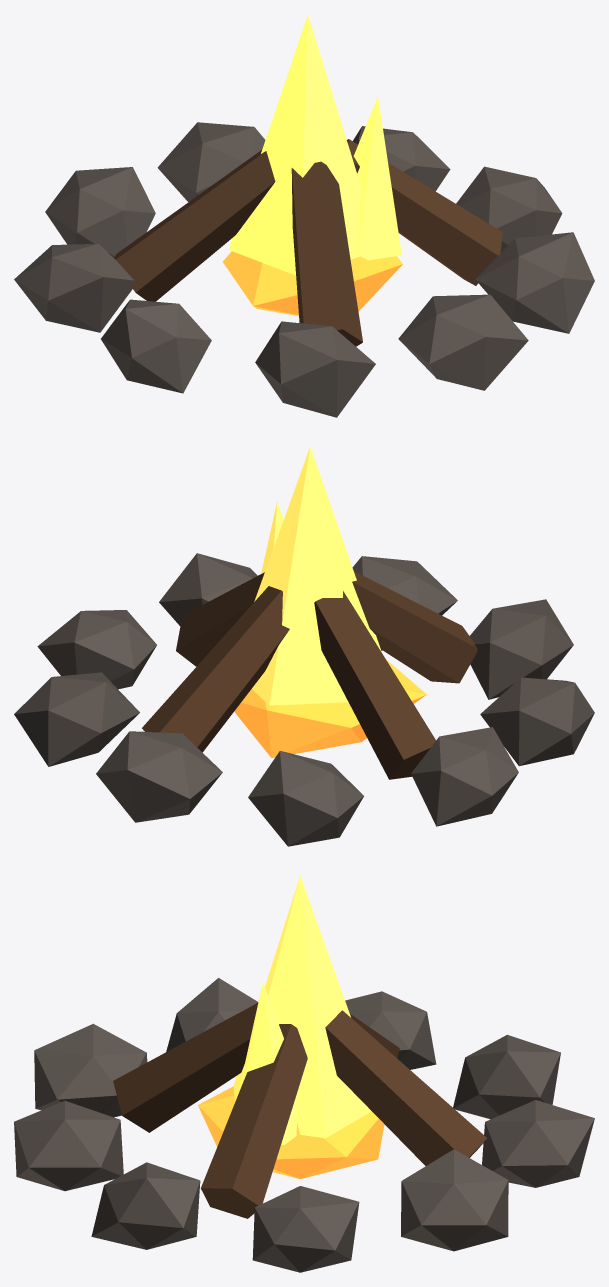
File: cav-fogueira.gltf
3 renders of one model, top to bottom at view 1: azimuth 30°, elevation 25°; view 2: azimuth 150°, elevation 25°; view 3: azimuth 270°, elevation 25°, orthographic.
Visible parts, largest first — view 1: cav-fogueira; view 2: cav-fogueira; view 3: cav-fogueira.
Part boxes in pixels (<box>): cav-fogueira: <box>14,14,594,417</box>; cav-fogueira: <box>14,446,594,846</box>; cav-fogueira: <box>14,875,594,1272</box>.
Size of the model in its own units: 0.766 by 0.42 by 0.778.
